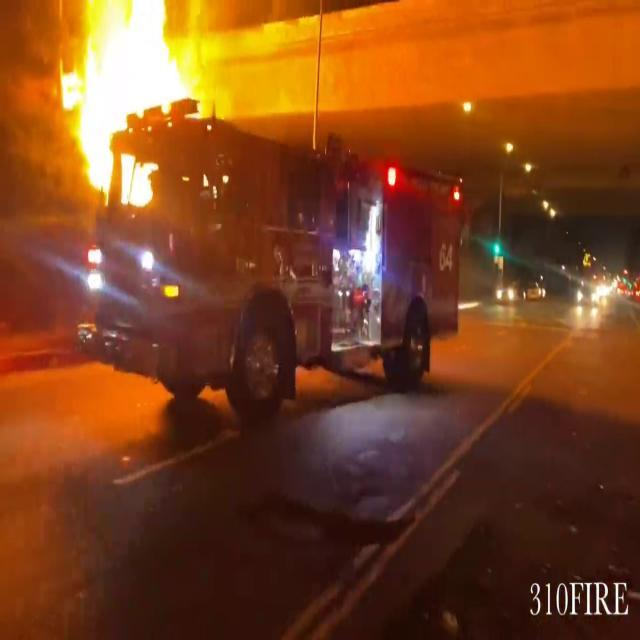Fire: (48, 0, 220, 202)
